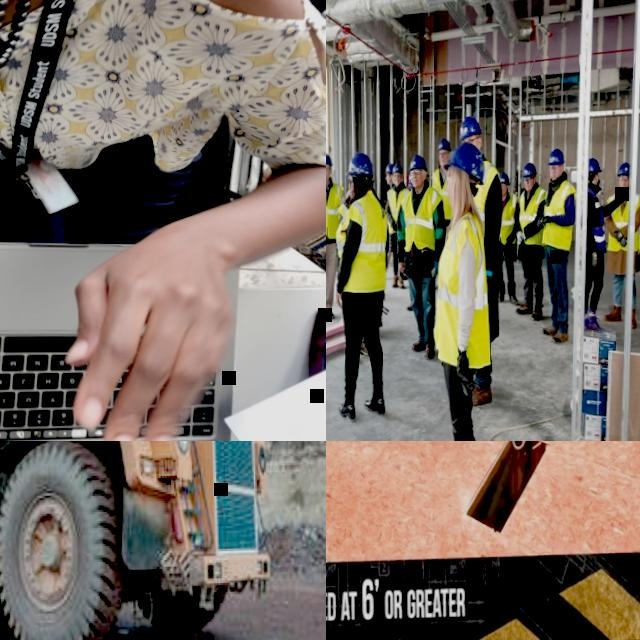Hardhat: (443, 142, 485, 188), (344, 151, 373, 177), (458, 116, 482, 142), (407, 154, 427, 174), (546, 149, 565, 167), (521, 163, 537, 179), (437, 139, 452, 154), (588, 159, 602, 174), (617, 163, 630, 178), (499, 172, 511, 188), (391, 163, 402, 175), (384, 163, 394, 175), (326, 152, 332, 168), (408, 173, 412, 184), (516, 169, 523, 175)
Mask: (595, 175, 600, 188)
NO-Mask: (412, 178, 423, 188), (550, 172, 562, 181), (619, 183, 629, 192), (448, 190, 452, 208), (350, 186, 355, 199), (440, 159, 448, 167), (525, 184, 533, 192), (501, 189, 507, 197), (394, 179, 401, 185), (326, 174, 330, 183), (386, 178, 391, 185)
NO-Safety Vest: (0, 0, 223, 175)
Person: (0, 0, 326, 441), (429, 138, 495, 441), (333, 149, 393, 424), (457, 115, 507, 407), (395, 153, 449, 362), (534, 148, 578, 344), (581, 158, 629, 337), (602, 162, 640, 331), (512, 162, 548, 323), (495, 170, 521, 308), (385, 163, 412, 292), (326, 150, 345, 321), (428, 138, 454, 237), (383, 162, 401, 279), (514, 169, 525, 196)
Safety Vest: (431, 211, 491, 369), (335, 190, 389, 293), (400, 185, 443, 251), (540, 181, 578, 254), (470, 158, 500, 243), (605, 192, 640, 252), (517, 186, 547, 248), (586, 187, 607, 255), (498, 193, 520, 247), (386, 187, 411, 233), (430, 169, 452, 221), (326, 179, 344, 239), (386, 188, 392, 224), (337, 203, 349, 218), (514, 178, 522, 196)
machinery: (0, 441, 279, 640)
